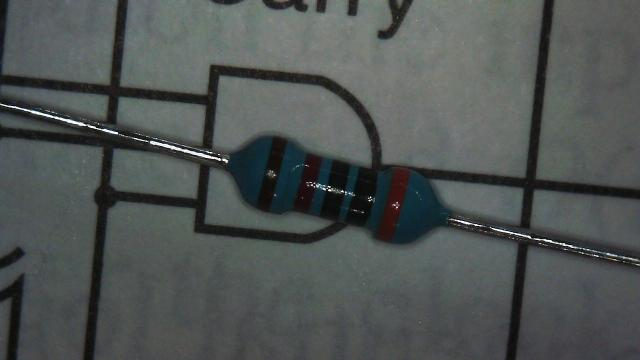black: (323, 161, 348, 220), (351, 170, 378, 222)
brown: (256, 136, 286, 210)
orange: (385, 168, 408, 241)
red: (294, 154, 322, 213)
resistor: (228, 116, 454, 261)
